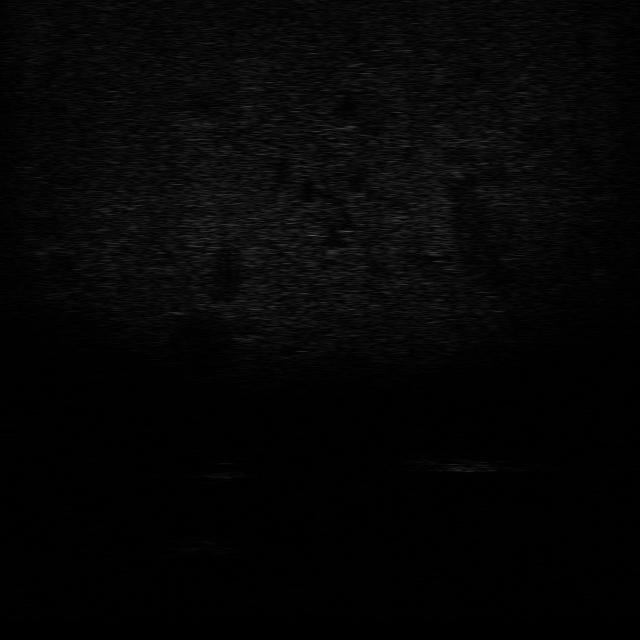ball: (200, 456, 248, 483)
circle cage: (160, 530, 241, 560)
human body: (403, 446, 535, 477)
